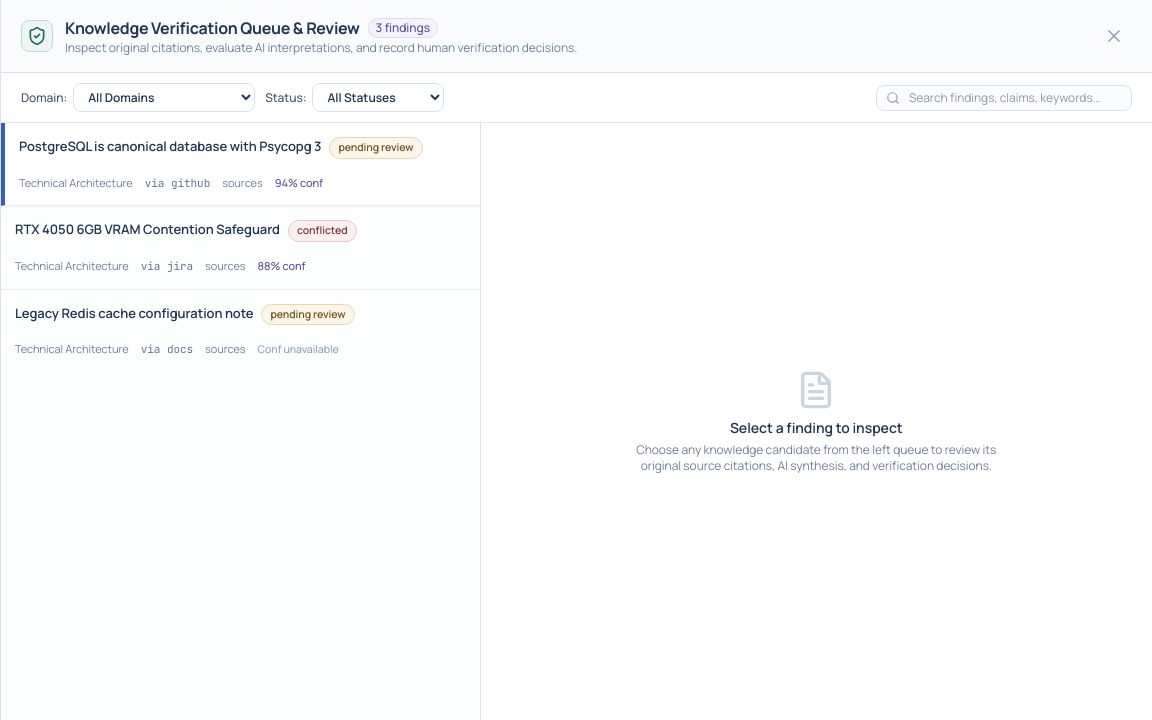
Scenario: Handover Workspace — Phase 2: Verification & Epistemic Integrity › HandoverVerificationReviewDrawer & AI Transparency › disables review actions when canReview is false
Step 1. Click the text "PostgreSQL is canonical database with Psycopg 3" → (170, 147), box [19,137,322,156]
(page scrolled)
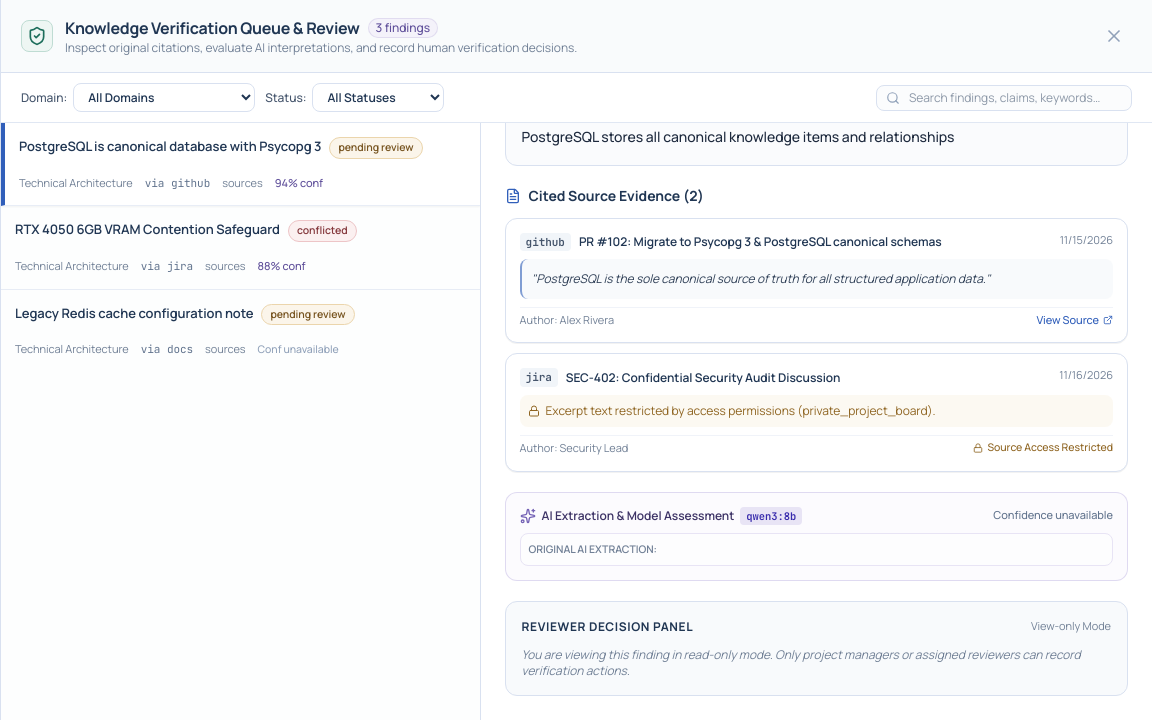
Now the text "PostgreSQL stores all canonical knowledge items and relationships" is shown, box [522,127,954,146]
Now the text "View-only Mode" is shown, box [1031,618,1111,635]
Now the text "You are viewing this finding in read-only mode" is shown, box [522,646,1081,679]
